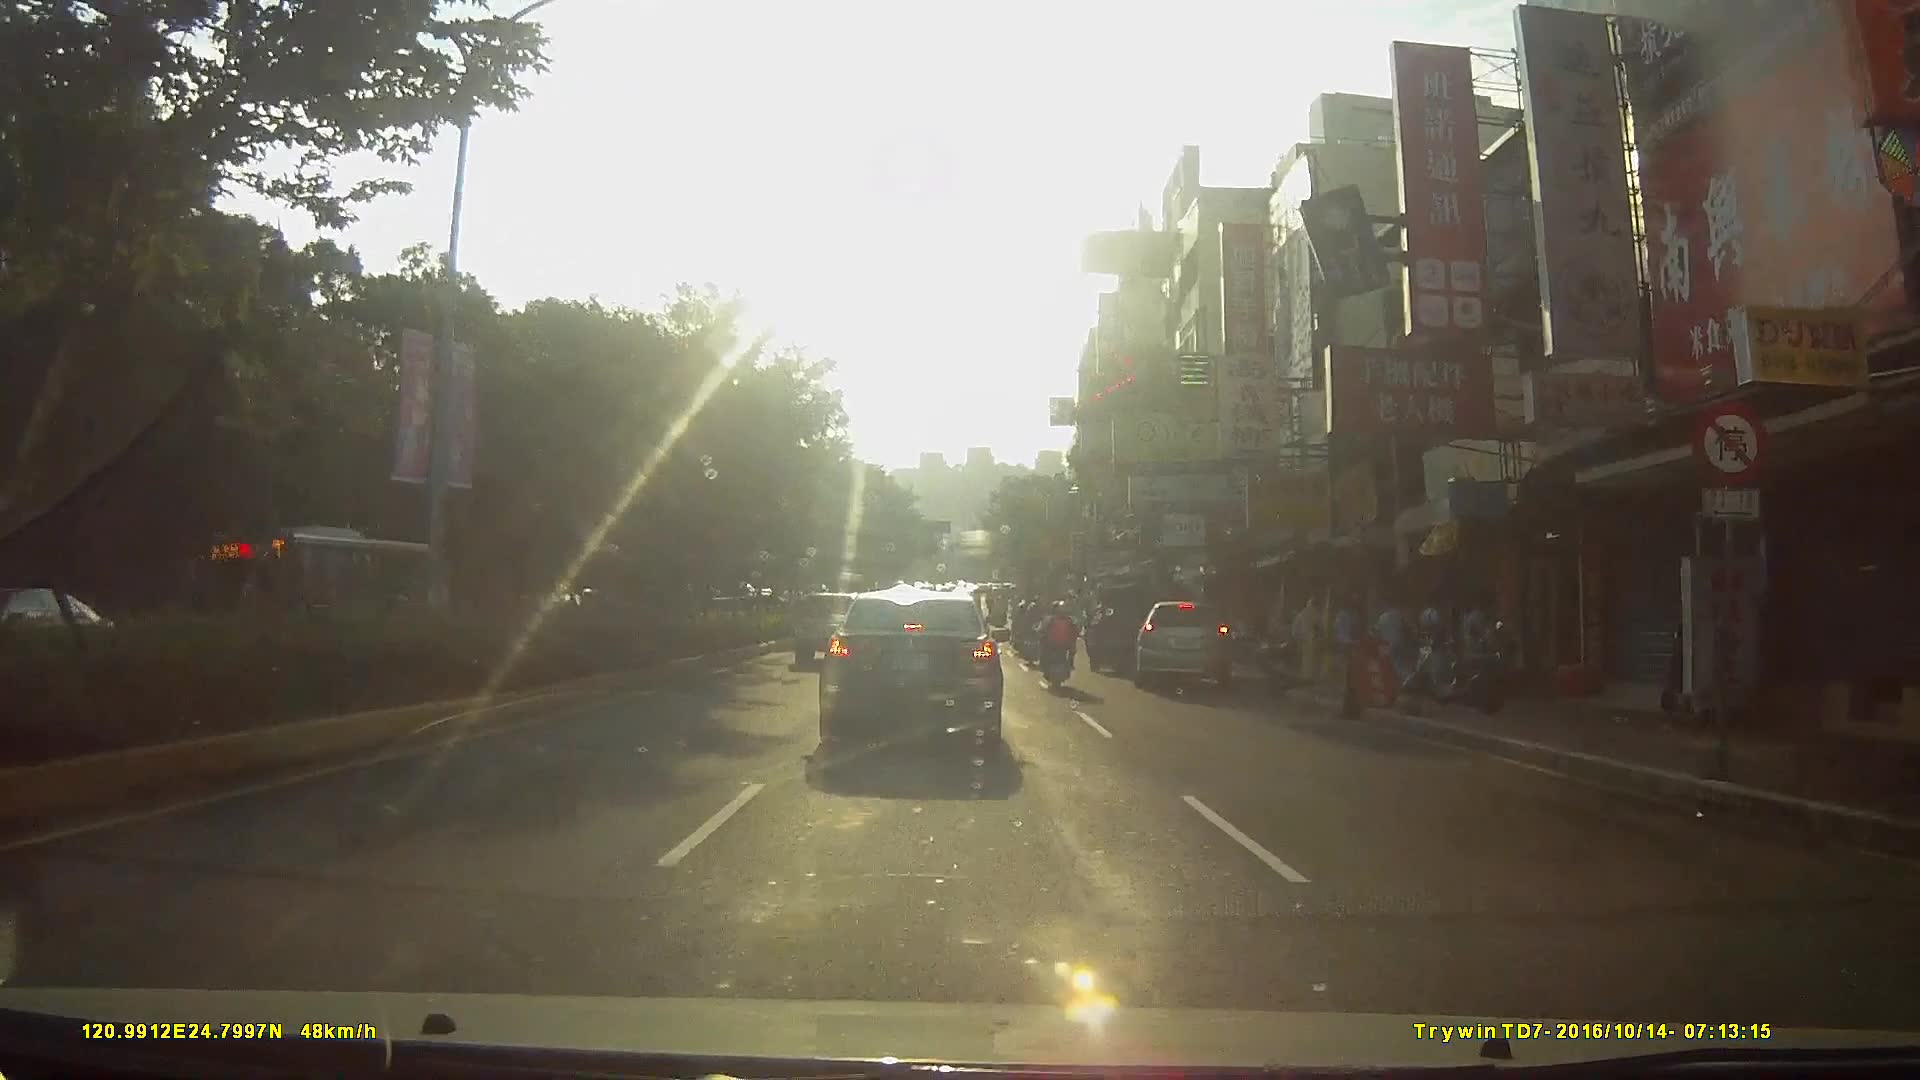pedestrian: (1377, 597, 1419, 690), (1421, 595, 1441, 669)
rider: (1040, 597, 1084, 695), (1017, 601, 1043, 668)
vehicle: (819, 589, 1030, 767), (201, 522, 451, 667), (1141, 599, 1248, 699), (1078, 577, 1176, 681)
